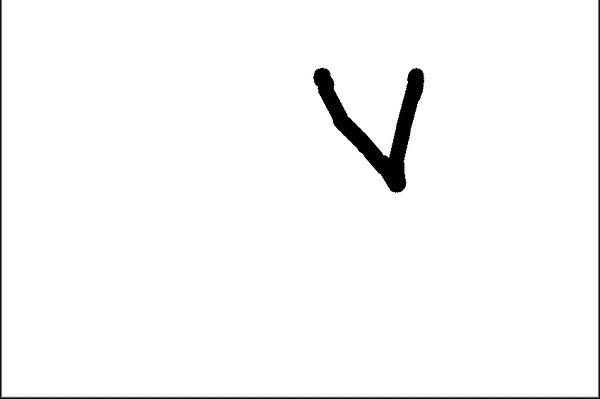V: (305, 54, 432, 200)
